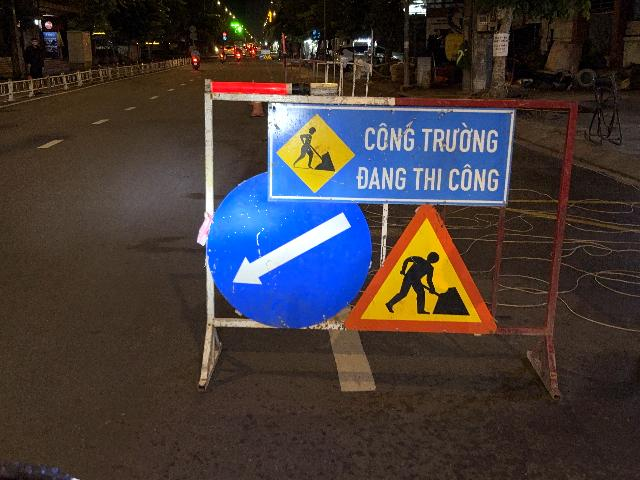cong-truong-dang-thi-cong: (347, 204, 496, 333)
huong-phai-di-vong-chuong-ngai-vat: (206, 171, 372, 329)
